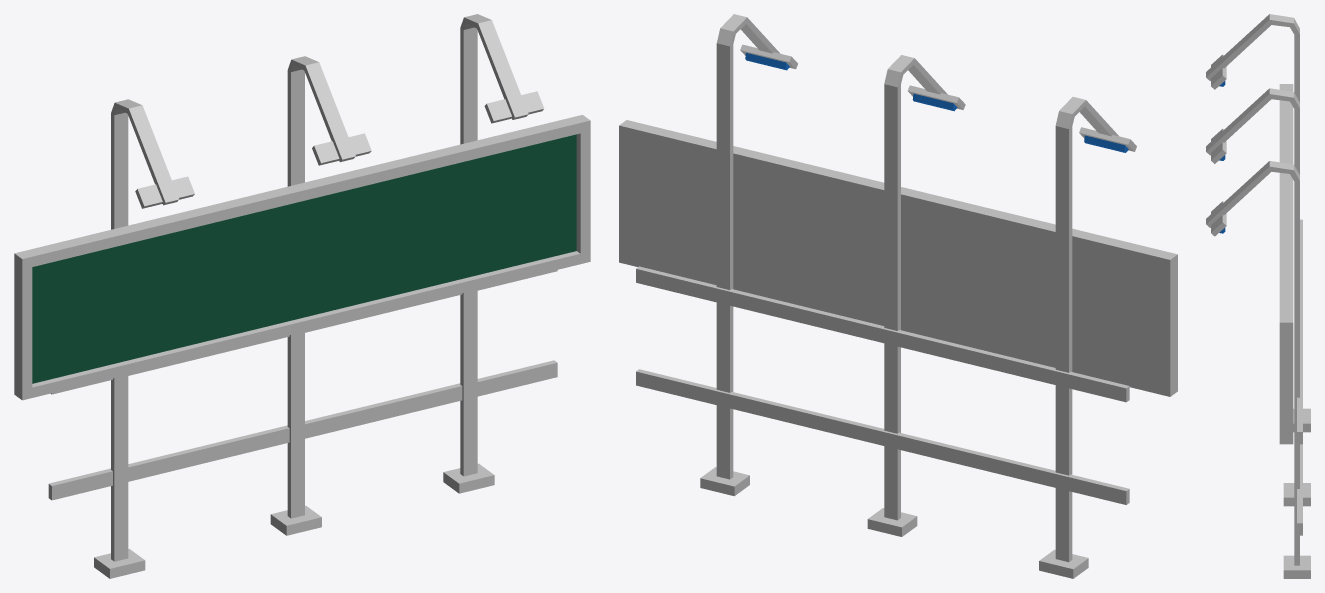
Rendered from T_roof_outlet.fbx.
The picture shows the model from 3 angles, left to right: view 1: azimuth 30°, elevation 25°; view 2: azimuth 150°, elevation 25°; view 3: azimuth 270°, elevation 25°; orthographic projection. The views are drawn at different scales.
Visible parts, largest first — view 1: roof_outlet; view 2: roof_outlet; view 3: roof_outlet.
Part boxes in pixels (bbox=[...]): roof_outlet: bbox=[14, 14, 590, 578]; roof_outlet: bbox=[619, 14, 1177, 578]; roof_outlet: bbox=[1206, 14, 1310, 578].
Size of the model in its own units: 407 by 324 by 75.43.
